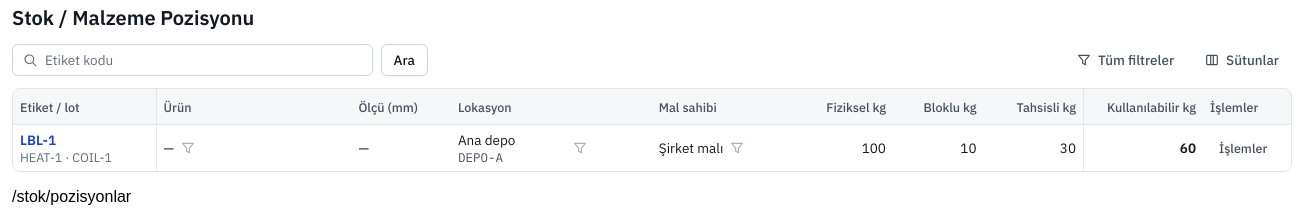
Test: AT-063 ST-01 row actions › shows only the actions the server capability snapshot permits
The width and height of the screenshot is (1304, 222).
Click the button with aria-label "LBL-1 işlemleri": (1243, 148) [1210,134,1276,162]
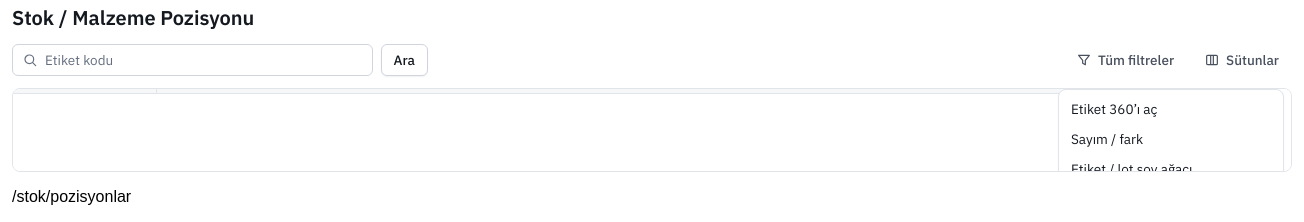
expect the links read "Etiket 360’ı aç", "Sayım / fark", "Etiket / lot soy ağacı", in this order: met, box [1071,100,1157,118]; [1071,130,1143,148]; [1071,160,1192,172]
